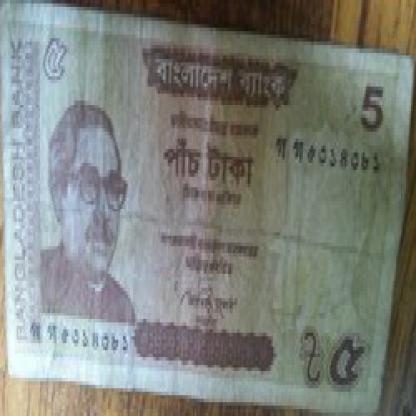Five Taka: (158, 132, 256, 201), (325, 319, 366, 402), (36, 31, 72, 104), (358, 76, 386, 146)
